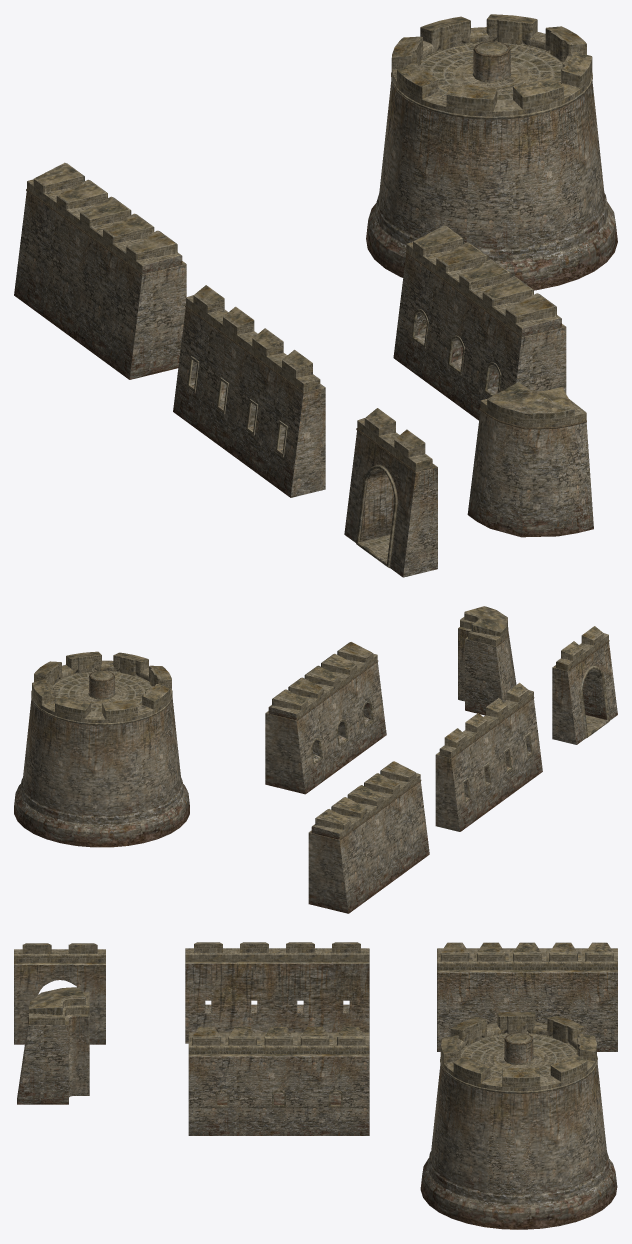
The model's file is fort_kit.gltf.
3 renders of one model, top to bottom at view 1: azimuth 30°, elevation 25°; view 2: azimuth 150°, elevation 25°; view 3: azimuth 270°, elevation 25°, orthographic. The views are drawn at different scales.
Parts seen in each view (by area): view 1: modular_fort_01_tower_round, modular_fort_01_wall_thick_straight_01, modular_fort_01_wall_thick_straight_02, modular_fort_01_wall_thin_straight_02, modular_fort_01_wall_thick_corner_01, modular_fort_01_wall_thin_gate_01; view 2: modular_fort_01_tower_round, modular_fort_01_wall_thick_straight_01, modular_fort_01_wall_thick_straight_02, modular_fort_01_wall_thin_straight_02, modular_fort_01_wall_thin_gate_01, modular_fort_01_wall_thick_corner_01; view 3: modular_fort_01_tower_round, modular_fort_01_wall_thick_straight_02, modular_fort_01_wall_thin_straight_02, modular_fort_01_wall_thick_straight_01, modular_fort_01_wall_thick_corner_01, modular_fort_01_wall_thin_gate_01.
Part boxes in pixels (x1,y1,x2,y2): modular_fort_01_tower_round: (366,14,617,290); modular_fort_01_wall_thick_straight_01: (14,162,186,379); modular_fort_01_wall_thick_straight_02: (393,225,566,420); modular_fort_01_wall_thin_straight_02: (173,285,325,497); modular_fort_01_wall_thick_corner_01: (467,382,593,537); modular_fort_01_wall_thin_gate_01: (344,408,437,577); modular_fort_01_tower_round: (14,651,189,847); modular_fort_01_wall_thick_straight_01: (308,761,429,913); modular_fort_01_wall_thick_straight_02: (265,642,386,794); modular_fort_01_wall_thin_straight_02: (435,682,542,831); modular_fort_01_wall_thin_gate_01: (552,626,617,744); modular_fort_01_wall_thick_corner_01: (458,606,516,715); modular_fort_01_tower_round: (420,1011,617,1229); modular_fort_01_wall_thick_straight_02: (188,1026,369,1135); modular_fort_01_wall_thin_straight_02: (185,942,369,1043); modular_fort_01_wall_thick_straight_01: (437,942,617,1051); modular_fort_01_wall_thick_corner_01: (17,987,89,1104); modular_fort_01_wall_thin_gate_01: (14,943,105,1044).
Size of the model in its own units: 38.03 by 13.51 by 48.61.
Materials: 2 (2 with a texture image).
